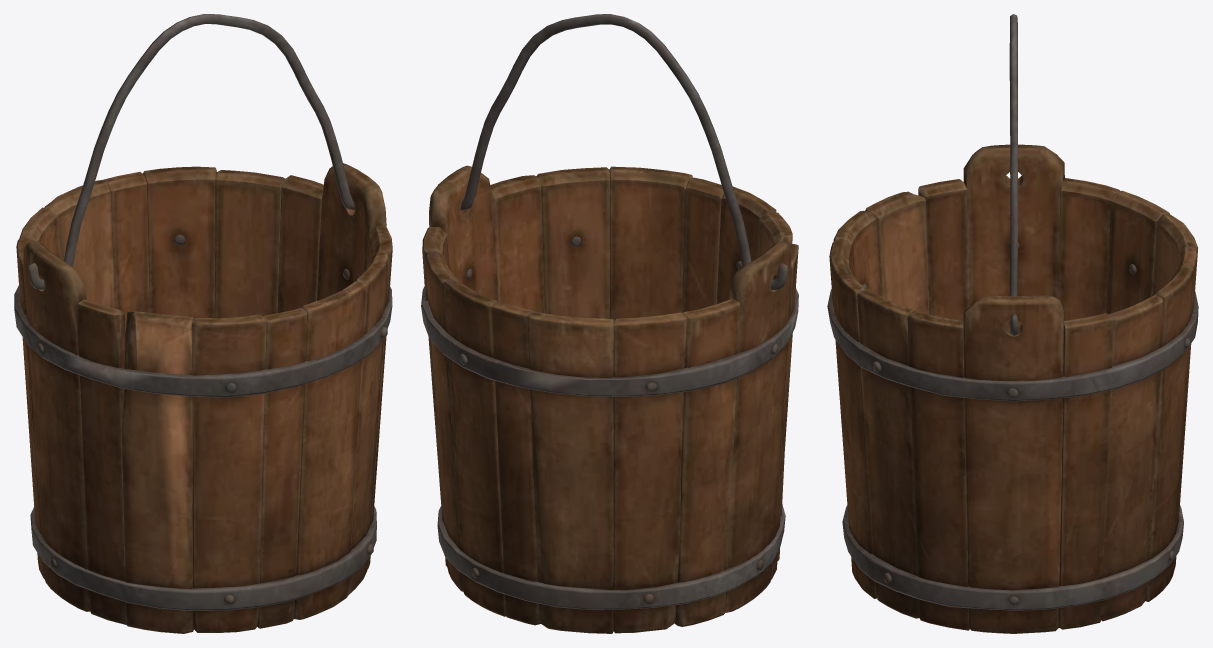
Rendered from balde.glb.
3 renders of one model, left to right at view 1: azimuth 30°, elevation 25°; view 2: azimuth 150°, elevation 25°; view 3: azimuth 270°, elevation 25°, orthographic.
Parts seen in each view (by area): view 1: wooden_bucket_01; view 2: wooden_bucket_01; view 3: wooden_bucket_01.
Boxes of the visible parts, x1,y1,x2,y2 form: wooden_bucket_01: [14, 14, 392, 633]; wooden_bucket_01: [421, 14, 798, 633]; wooden_bucket_01: [827, 14, 1198, 633].
Bounding box in the file's own units: 0.367 × 0.5499 × 0.3422.
1 material, 1 textured.
